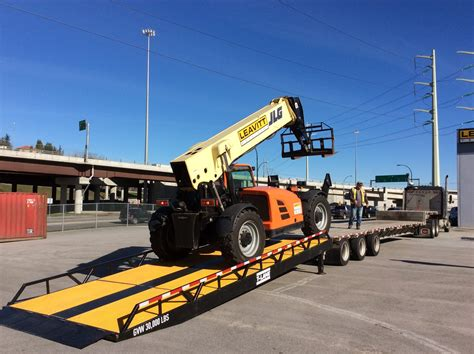Yard Ramp: (5, 231, 333, 349)
